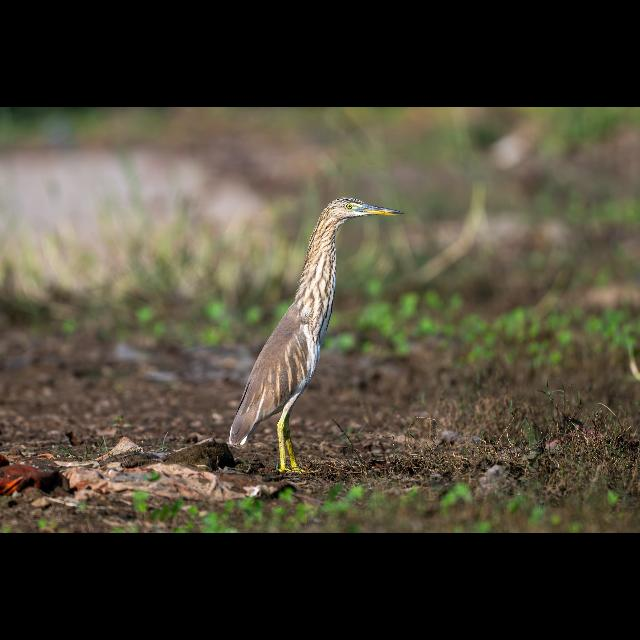heron: (229, 198, 403, 472)
